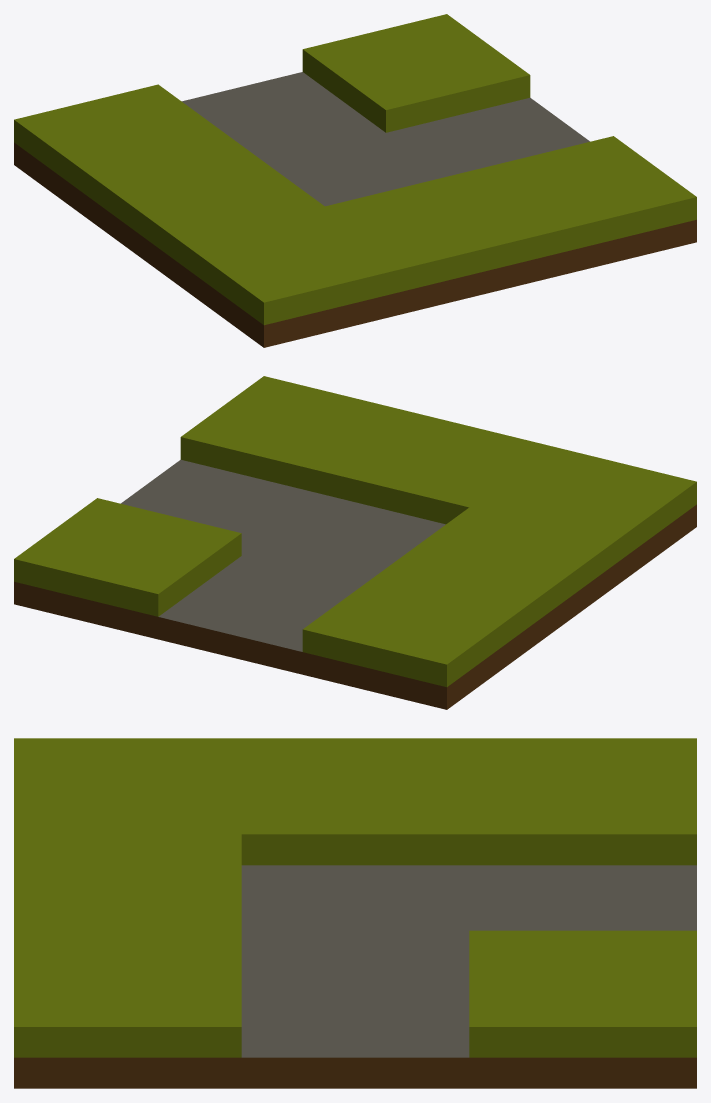
Rendered from CityCurve.fbx.
3 renders of one model, top to bottom at view 1: azimuth 30°, elevation 25°; view 2: azimuth 150°, elevation 25°; view 3: azimuth 270°, elevation 25°, orthographic. The views are drawn at different scales.
Parts seen in each view (by area): view 1: CityCurve; view 2: CityCurve; view 3: CityCurve.
Boxes of the visible parts, x1,y1,x2,y2 form: CityCurve: (14,14,696,347); CityCurve: (14,376,696,709); CityCurve: (14,738,696,1088).
Size of the model in its own units: 1 by 0.1 by 1.
